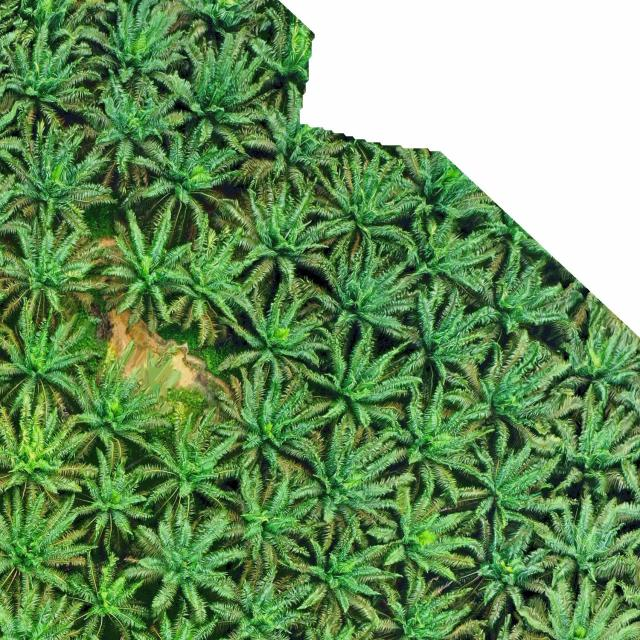Tree: (447, 330, 589, 457), (205, 458, 333, 588), (359, 481, 488, 600), (114, 126, 255, 232), (131, 398, 247, 526), (376, 377, 500, 494), (83, 208, 193, 336), (165, 24, 278, 148), (304, 236, 422, 354), (122, 507, 240, 625), (295, 424, 419, 535), (212, 358, 332, 472), (448, 439, 587, 537), (434, 522, 549, 638), (526, 383, 640, 499), (273, 528, 394, 636), (206, 282, 327, 389), (296, 324, 406, 440), (223, 178, 331, 296), (386, 281, 506, 386), (73, 72, 195, 175), (521, 486, 640, 591), (0, 136, 118, 239), (58, 352, 177, 453), (0, 389, 100, 508), (0, 219, 103, 328), (55, 441, 157, 551), (309, 155, 417, 258), (80, 0, 192, 98), (389, 202, 493, 305), (158, 231, 249, 347), (0, 33, 92, 147), (0, 488, 91, 601), (199, 555, 317, 640), (507, 568, 640, 640), (0, 319, 97, 417), (366, 563, 484, 640), (67, 549, 154, 640), (0, 0, 109, 62), (0, 578, 99, 640), (0, 489, 50, 601), (116, 595, 235, 640), (78, 0, 203, 30), (611, 441, 640, 562), (609, 540, 640, 640), (287, 615, 390, 640), (0, 87, 21, 194), (0, 176, 20, 282), (430, 622, 544, 640)
